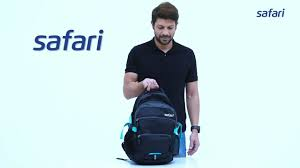backpack: (120, 87, 182, 164)
